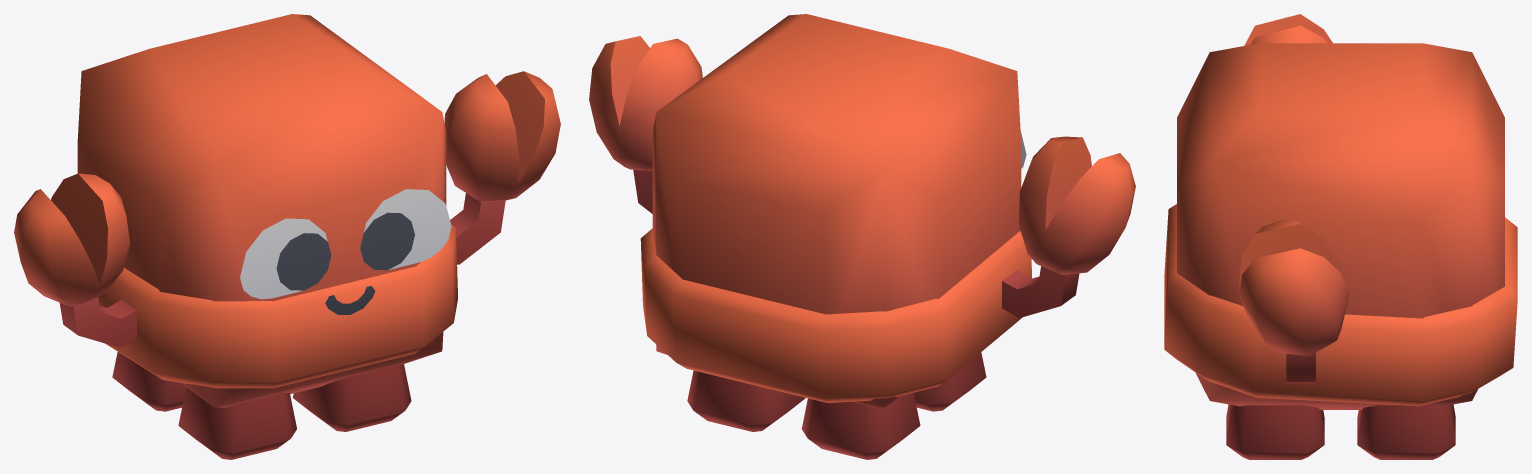
The model's file is animal-crab.glb.
3 renders of one model, left to right at view 1: azimuth 30°, elevation 25°; view 2: azimuth 150°, elevation 25°; view 3: azimuth 270°, elevation 25°, orthographic.
Visible parts, largest first — view 1: Group.002, body.005, leg-front-right.005, leg-front-left.005, leg-back-right.004; view 2: Group.002, body.005, leg-back-right.004, leg-back-left.004, leg-front-right.005; view 3: Group.002, body.005, leg-front-left.005, leg-back-left.004.
Part boxes in pixels (box(x1,y1,x2,y2)): Group.002: box(77, 14, 446, 407); body.005: box(14, 71, 560, 388); leg-front-right.005: box(178, 387, 296, 459); leg-front-left.005: box(292, 364, 411, 431); leg-back-right.004: box(112, 352, 186, 411); Group.002: box(652, 14, 1021, 407); body.005: box(589, 36, 1135, 402); leg-back-right.004: box(801, 393, 920, 459); leg-back-left.004: box(687, 370, 805, 431); leg-front-right.005: box(914, 352, 986, 411); Group.002: box(1177, 43, 1504, 409); body.005: box(1164, 14, 1517, 406); leg-front-left.005: box(1226, 404, 1324, 459); leg-back-left.004: box(1357, 404, 1455, 459).
Bounding box in the file's own units: 5.54 × 3.4 × 3.2.
Materials: 1 (1 with a texture image).
